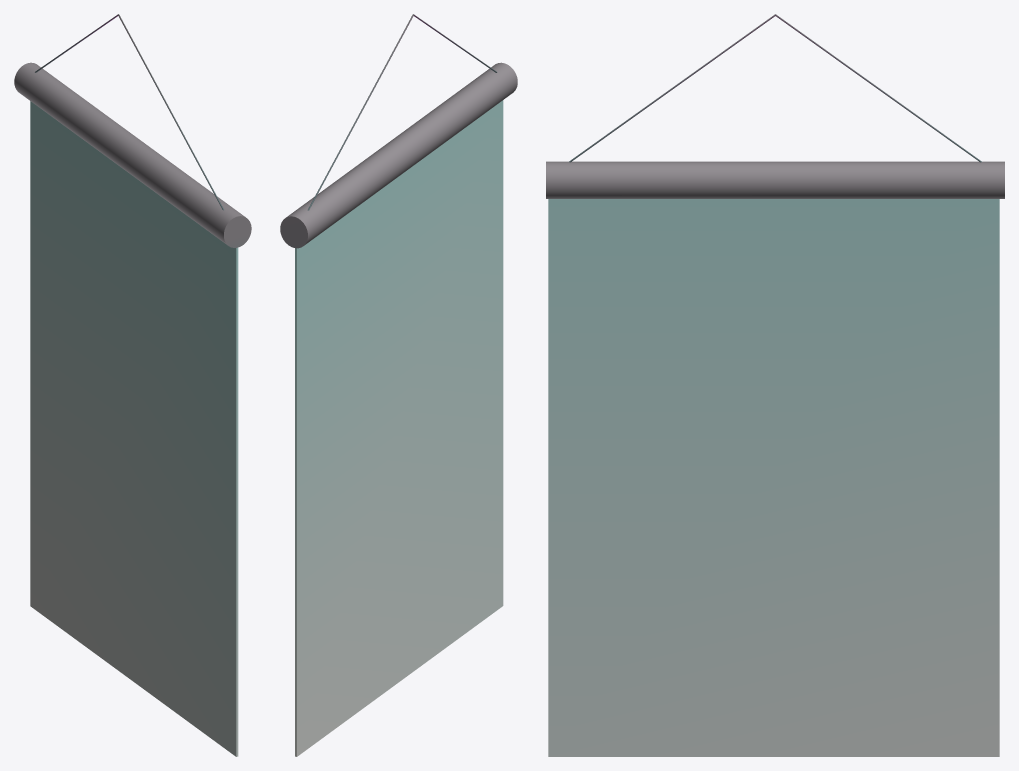
3 renders of one model, left to right at view 1: azimuth 30°, elevation 25°; view 2: azimuth 150°, elevation 25°; view 3: azimuth 270°, elevation 25°, orthographic. The views are drawn at different scales.
Visible parts, largest first — view 1: screen, roller, hanger; view 2: screen, roller, hanger; view 3: screen, roller, hanger.
Part boxes in pixels (<box>): screen: <box>30,101,238,756</box>; roller: <box>14,62,251,247</box>; hanger: <box>35,14,223,210</box>; screen: <box>295,100,503,756</box>; roller: <box>280,62,517,248</box>; hanger: <box>307,14,497,210</box>; screen: <box>548,199,999,756</box>; roller: <box>546,161,1004,198</box>; hanger: <box>569,14,981,162</box>.
Bounding box in the file's own units: 0.0135 × 0.2998 × 0.1698.
